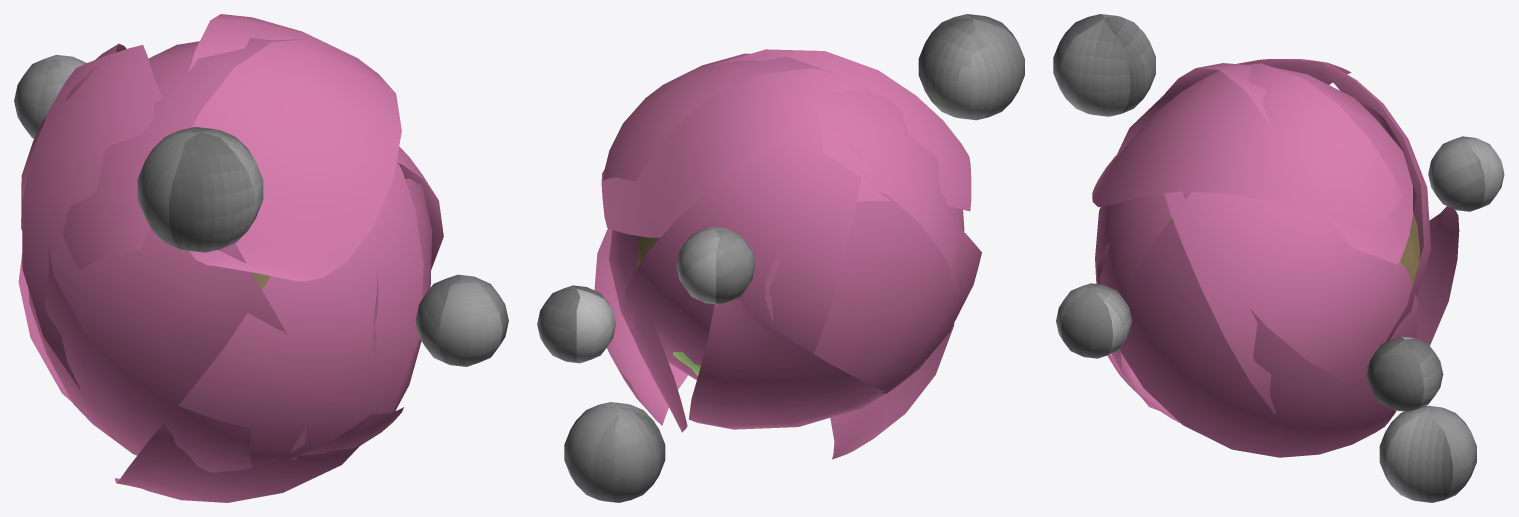
3 views of the same model, side by side, from view 1: azimuth 30°, elevation 25°; view 2: azimuth 150°, elevation 25°; view 3: azimuth 270°, elevation 25° (orthographic). The views are drawn at different scales.
Parts seen in each view (by area): view 1: SM_Anima_Wild_01_LOD0; view 2: SM_Anima_Wild_01_LOD0; view 3: SM_Anima_Wild_01_LOD0.
Part boxes in pixels (bbox=[...]): SM_Anima_Wild_01_LOD0: bbox=[14, 14, 508, 502]; SM_Anima_Wild_01_LOD0: bbox=[537, 14, 1024, 502]; SM_Anima_Wild_01_LOD0: bbox=[1053, 14, 1504, 502].
Size of the model in its own units: 0.5653 by 0.6475 by 0.6765.
3 materials, 2 textured.
